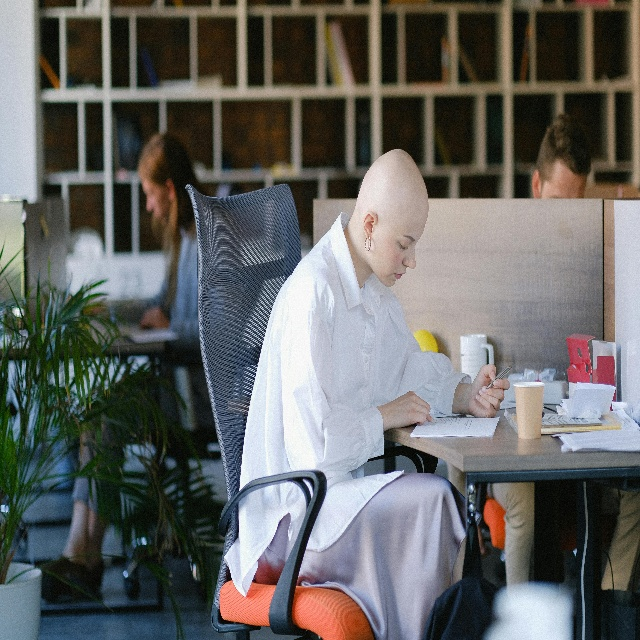Sin_guantes: (469, 364, 511, 418), (386, 390, 433, 428), (141, 305, 167, 331)
